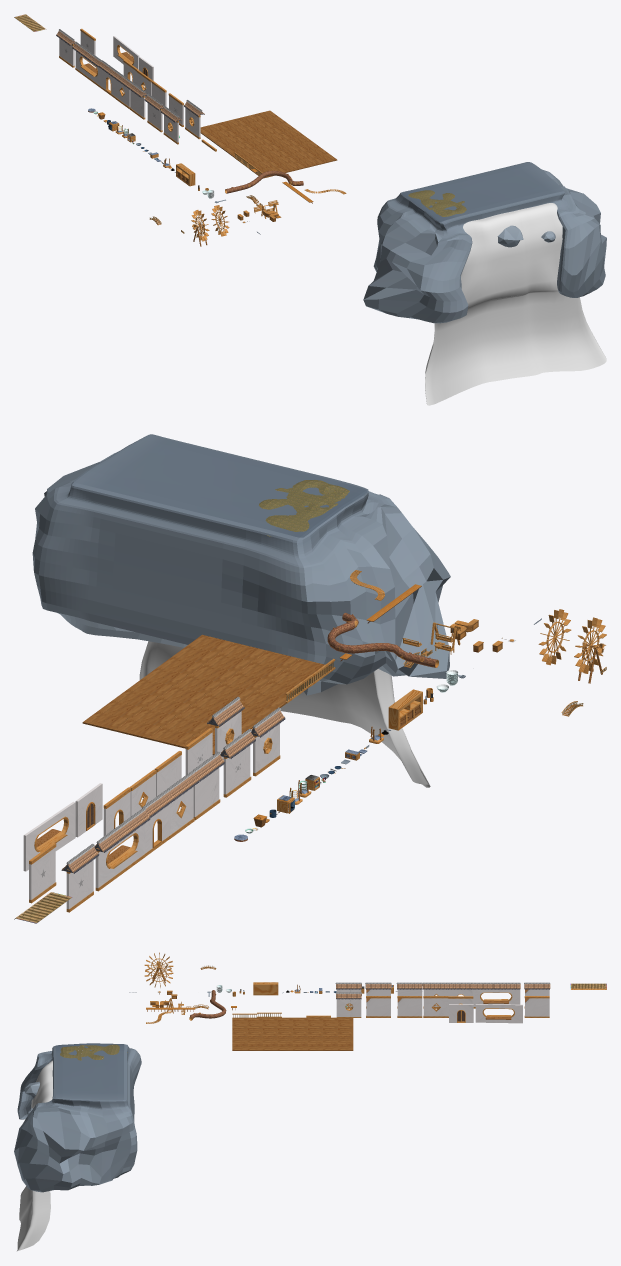
The model's file is ORIGIN-TOLLS-Envi-A.fbx.
3 renders of one model, top to bottom at view 1: azimuth 30°, elevation 25°; view 2: azimuth 150°, elevation 25°; view 3: azimuth 270°, elevation 25°, orthographic. The views are drawn at different scales.
Visible parts, largest first — view 1: Plane.005, Cube.044, Cube.015, Plane.006, Cylinder.002; view 2: Cube.044, Cube.015, Plane.005, Plane.006, Cylinder.002, Cubesa, Cube.050, Cube.043, Cube.054, Cube.055, Cylinder.019, Cube.056 (+12 smaller); view 3: Cube.044, Cube.015, Plane.005, Cylinder.002, Cubesa, Plane.006, Cube.022, Cube.024, Cube.009, Cube.016, Cube.017.
Part boxes in pixels (box(x1,y1,x2,y2)): Plane.005: box(425, 203, 606, 405); Cube.044: box(363, 162, 606, 323); Cube.015: box(200, 110, 337, 178); Plane.006: box(408, 190, 466, 216); Cylinder.002: box(72, 41, 101, 86); Cube.044: box(32, 434, 450, 695); Cube.015: box(82, 634, 334, 754); Plane.005: box(139, 641, 430, 787); Plane.006: box(259, 480, 349, 536); Cylinder.002: box(94, 807, 150, 887); Cubesa: box(23, 801, 75, 871); Cube.050: box(220, 729, 255, 797); Cube.043: box(61, 843, 99, 912); Cube.054: box(251, 707, 285, 776); Cube.055: box(193, 751, 224, 820); Cylinder.019: box(327, 612, 438, 667); Cube.056: box(168, 770, 199, 838); Cube.044: box(14, 1043, 141, 1192); Cube.015: box(232, 1017, 353, 1050); Plane.005: box(17, 1060, 52, 1250); Cylinder.002: box(473, 982, 520, 1006); Cubesa: box(475, 1004, 522, 1023); Plane.006: box(60, 1044, 127, 1060); Cube.022: box(397, 996, 422, 1017); Cube.024: box(423, 996, 448, 1017); Cube.009: box(524, 996, 549, 1017); Cube.016: box(366, 996, 390, 1017); Cube.017: box(336, 999, 361, 1017).
Size of the model in its own units: 22852 by 11041 by 35033.
